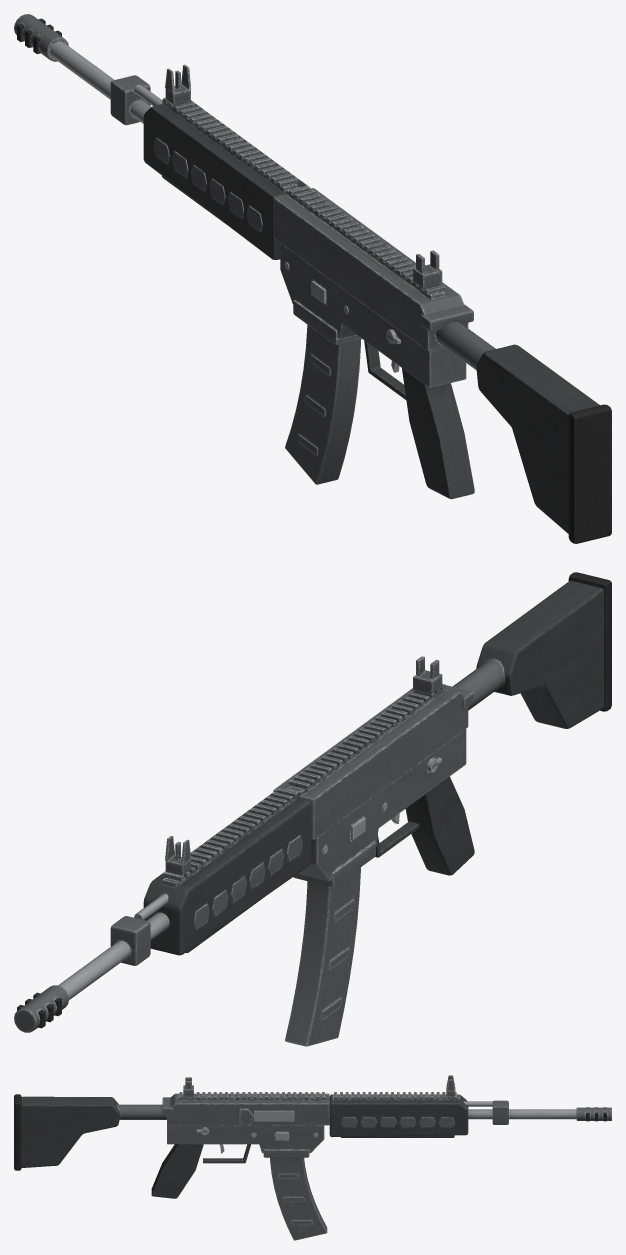
The model's file is rifle_vk7.glb.
The picture shows the model from 3 angles, top to bottom: view 1: azimuth 30°, elevation 25°; view 2: azimuth 150°, elevation 25°; view 3: azimuth 270°, elevation 25°; orthographic projection. The views are drawn at different scales.
Parts seen in each view (by area): view 1: body, mag, action; view 2: body, mag; view 3: body, mag, action.
Boxes of the visible parts, x1,y1,x2,y2 form: body: [14, 14, 611, 543]; mag: [285, 325, 360, 484]; action: [420, 304, 473, 331]; body: [14, 572, 611, 1032]; mag: [285, 867, 360, 1046]; body: [14, 1075, 611, 1198]; mag: [270, 1157, 327, 1240]; action: [162, 1097, 294, 1121].
Bounding box in the file's own units: 0.053 × 0.326 × 1.1.
Materials: 1 (1 with a texture image).
